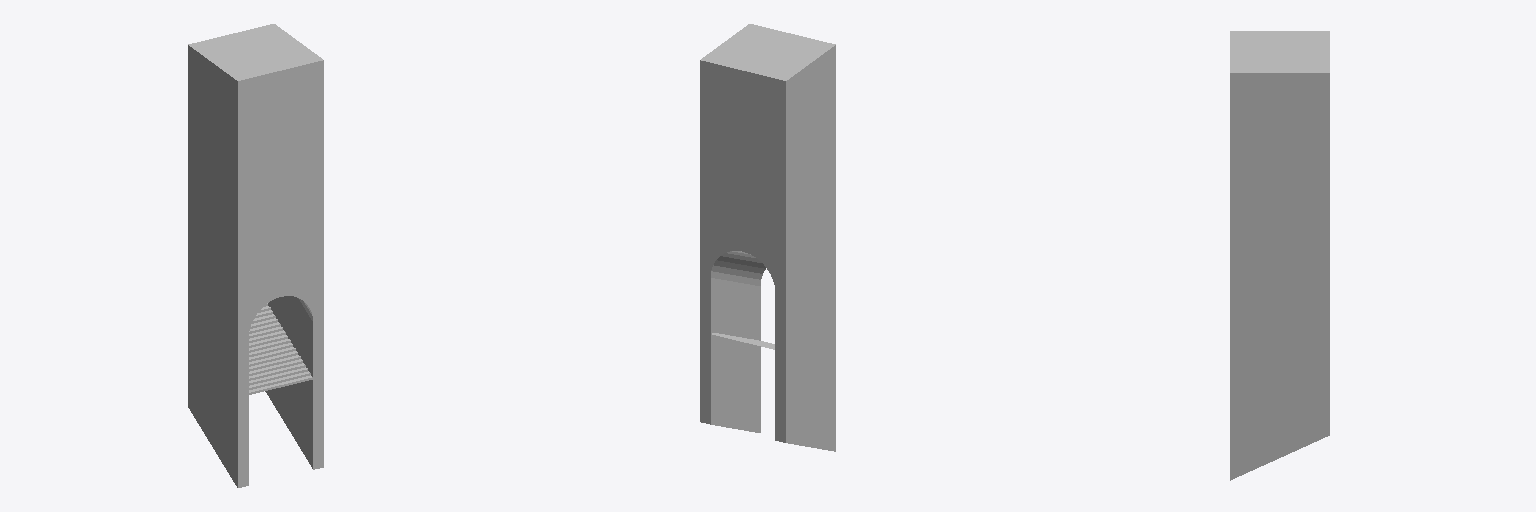
File: internal_hall_stairs.obj
The picture shows the model from 3 angles: view 1: azimuth 30°, elevation 25°; view 2: azimuth 150°, elevation 25°; view 3: azimuth 270°, elevation 25°; orthographic projection.
Parts seen in each view (by area): view 1: Cube.007, Cube.006; view 2: Cube.007; view 3: Cube.007.
Part boxes in pixels (x1,y1,x2,y2): Cube.007: (188,24,323,487); Cube.006: (249,303,312,394); Cube.007: (700,24,835,451); Cube.007: (1230,31,1329,480).
Size of the model in its own units: 4 by 18 by 4.